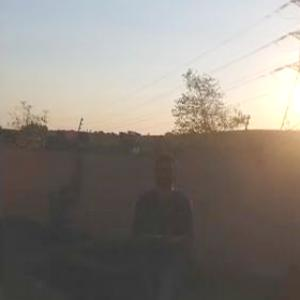follow: (128, 147, 198, 299)
